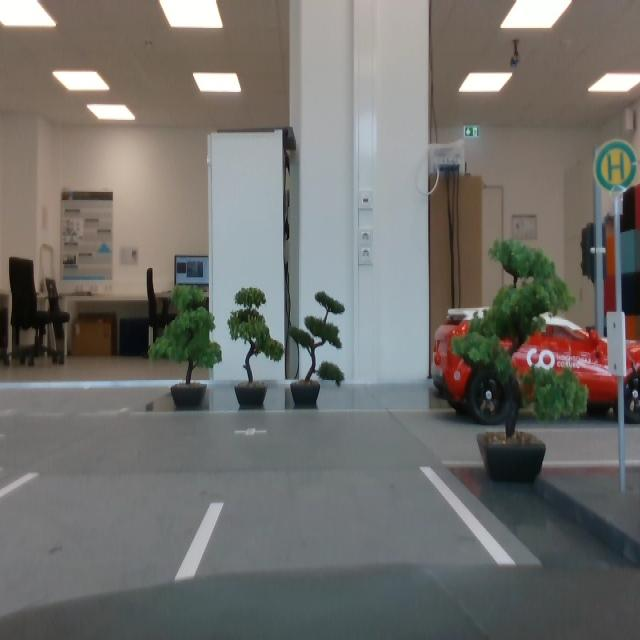car: (432, 307, 640, 427)
potted plant: (451, 239, 591, 480), (148, 284, 223, 408), (227, 285, 285, 408), (288, 290, 346, 405)
traffic light: (582, 225, 607, 284)
